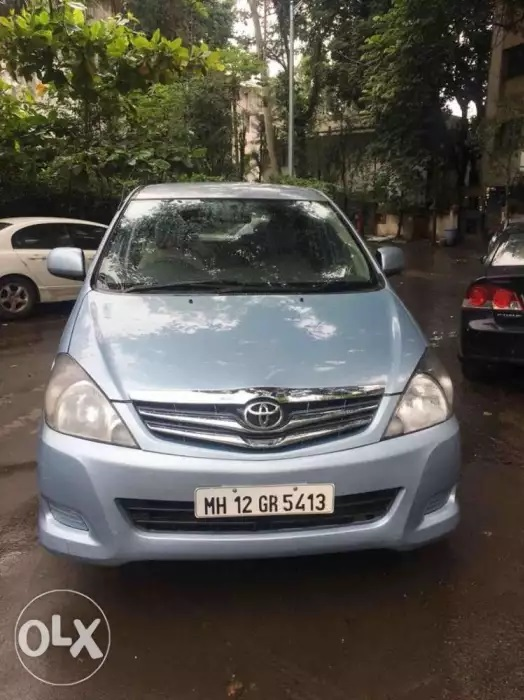licenseplate: (189, 480, 339, 518)
